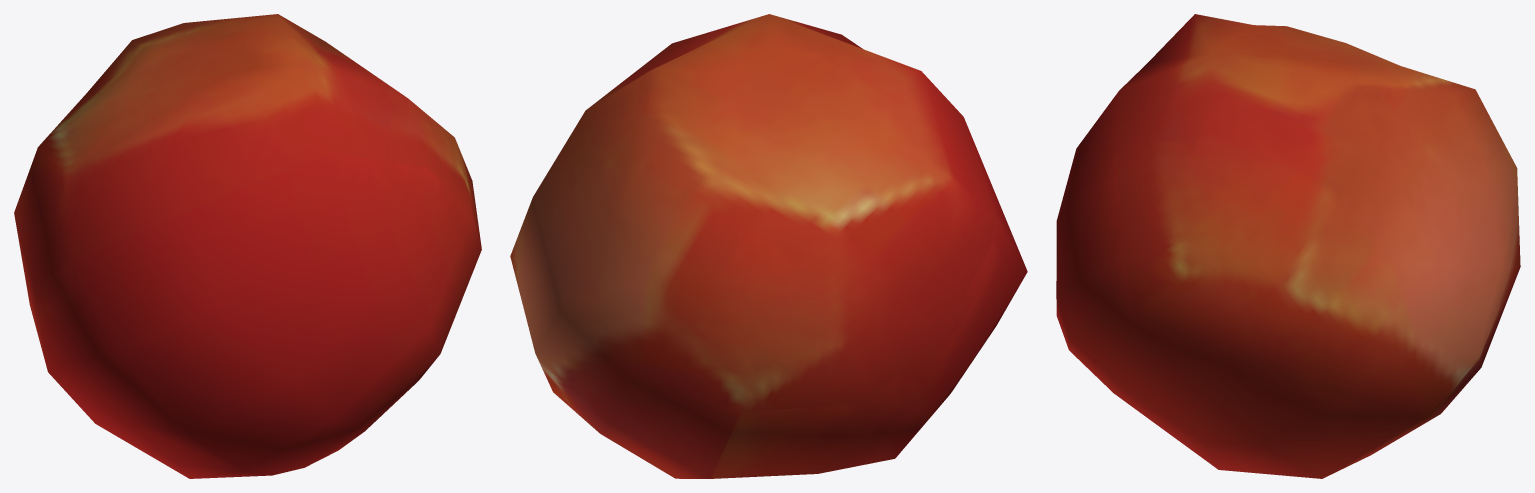
The model's file is hd_xiaoyouxi_hongbaoshi.glb.
3 renders of one model, left to right at view 1: azimuth 30°, elevation 25°; view 2: azimuth 150°, elevation 25°; view 3: azimuth 270°, elevation 25°, orthographic. The views are drawn at different scales.
Parts seen in each view (by area): view 1: xiaoyouxi_baoshi_f; view 2: xiaoyouxi_baoshi_f; view 3: xiaoyouxi_baoshi_f.
Boxes of the visible parts, left/top/right/bottom form: xiaoyouxi_baoshi_f: left=14, top=14, right=481, bottom=478; xiaoyouxi_baoshi_f: left=510, top=14, right=1027, bottom=478; xiaoyouxi_baoshi_f: left=1056, top=14, right=1520, bottom=478.
Bounding box in the file's own units: 0.2547 × 0.2423 × 0.2506.
Materials: 1 (1 with a texture image).
